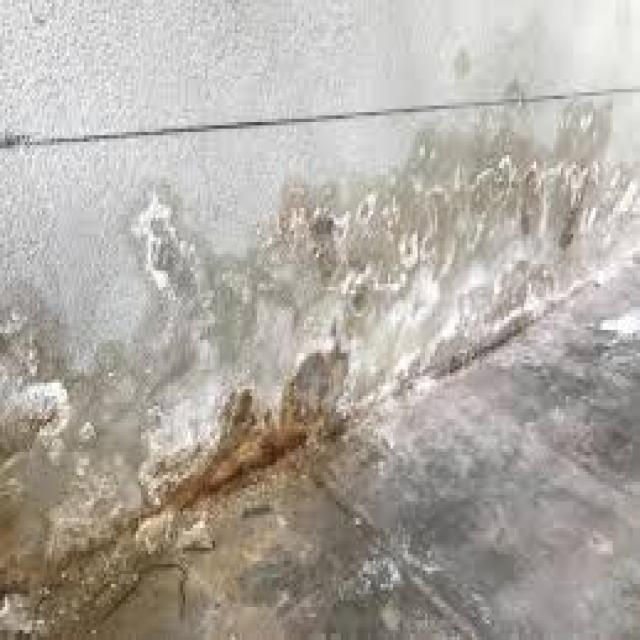stain_mould: (0, 86, 639, 639)
